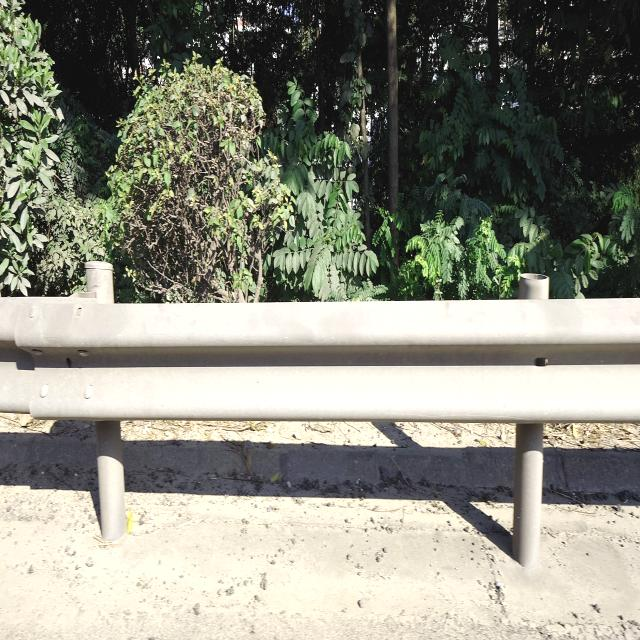Guard rail: (0, 298, 640, 422)
Tree: (0, 0, 640, 302)
